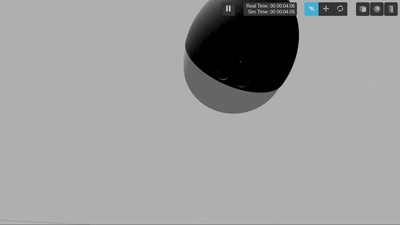mira_robot: (184, 1, 300, 114)
